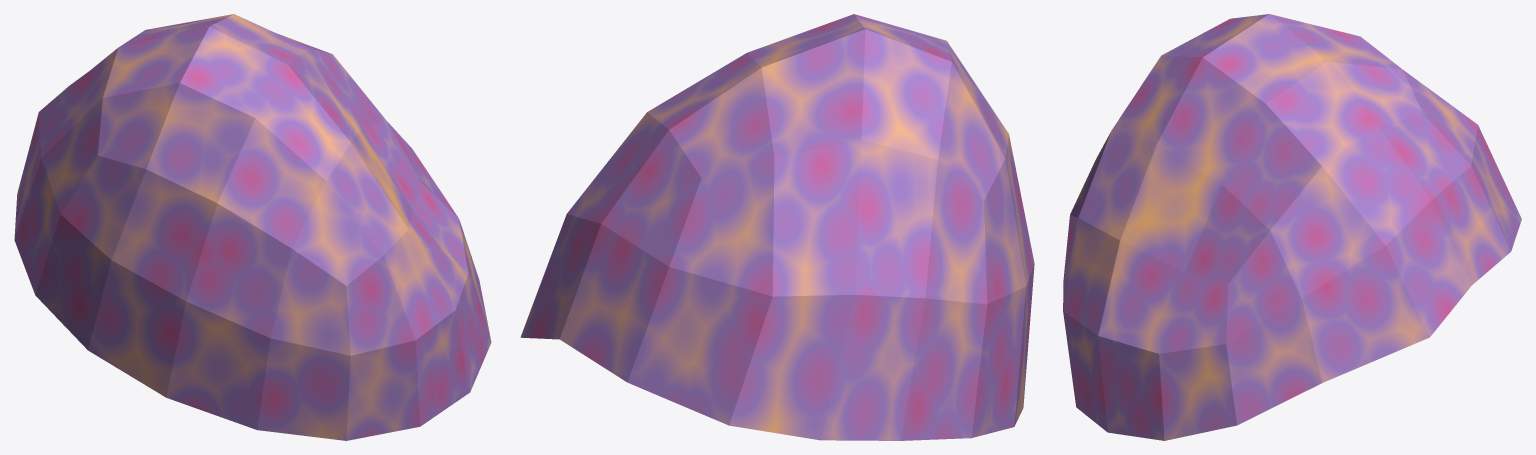
The model's file is 立方体160.fbx.
3 renders of one model, left to right at view 1: azimuth 30°, elevation 25°; view 2: azimuth 150°, elevation 25°; view 3: azimuth 270°, elevation 25°, orthographic. The views are drawn at different scales.
Parts seen in each view (by area): view 1: 立方体.160; view 2: 立方体.160; view 3: 立方体.160.
Boxes of the visible parts, <box> form: 立方体.160: <box>14,14,491,440</box>; 立方体.160: <box>520,14,1034,440</box>; 立方体.160: <box>1063,14,1521,440</box>.
Size of the model in its own units: 28.81 by 25.41 by 30.96.
